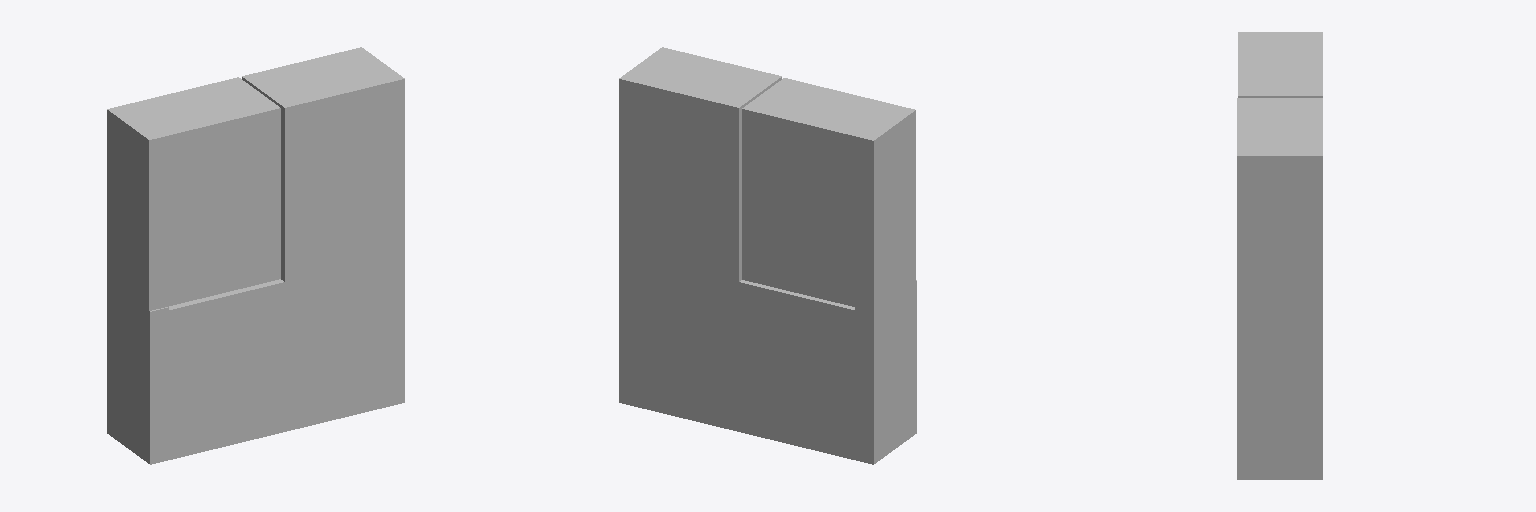
Rendered from basement.obj.
The picture shows the model from 3 angles: view 1: azimuth 30°, elevation 25°; view 2: azimuth 150°, elevation 25°; view 3: azimuth 270°, elevation 25°; orthographic projection.
Visible parts, largest first — view 1: basement-ceiling, room-ceiling, room-left-wall, basement-left-wall, basement-rear-wall, room-back-wall, whiteboard, room-right-wall-backside; view 2: basement-floor, room-floor, room-left-wall, basement-left-wall, basement-rear-wall, room-back-wall, whiteboard, room-right-wall-backside; view 3: basement-right-wall, basement-rear-wall, room-back-wall, whiteboard.
Part boxes in pixels (x1,y1,x2,y2): basement-ceiling: (150,79,404,464); room-ceiling: (149,108,280,310); room-left-wall: (107,110,148,310); basement-left-wall: (107,281,149,463); basement-rear-wall: (242,47,404,107); room-back-wall: (107,77,279,139); whiteboard: (166,96,251,124); room-right-wall-backside: (242,77,284,281); basement-floor: (619,79,873,464); room-floor: (742,109,873,311); room-left-wall: (874,110,915,310); basement-left-wall: (874,281,916,463); basement-rear-wall: (619,47,781,107); room-back-wall: (742,78,914,140); whiteboard: (782,88,868,117); room-right-wall-backside: (739,77,781,281); basement-right-wall: (1237,156,1322,479); basement-rear-wall: (1237,98,1322,155); room-back-wall: (1238,32,1322,95); whiteboard: (1253,51,1286,85).
Bounding box in the file's own units: 8.64 × 10.5 × 2.54.